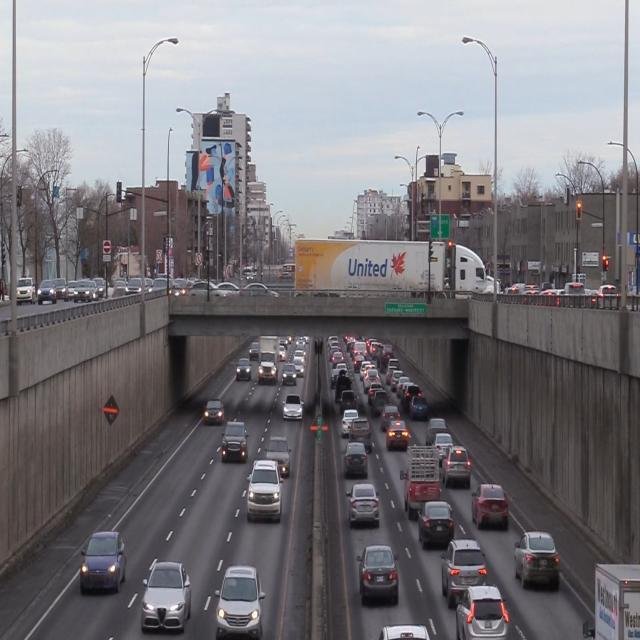Car: (214, 565, 266, 639), (140, 559, 191, 633), (79, 530, 126, 593)
Traffic-light: (115, 180, 123, 202), (575, 201, 582, 220), (602, 255, 609, 271)
Truck: (293, 237, 497, 297)
